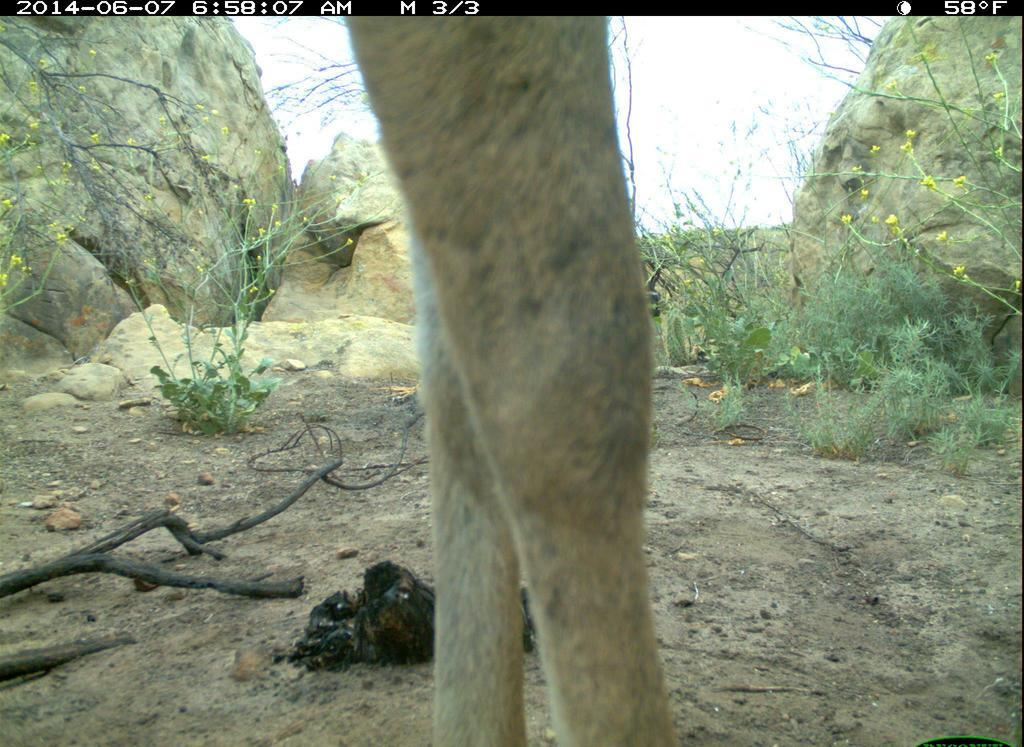deer: (318, 8, 772, 747)
